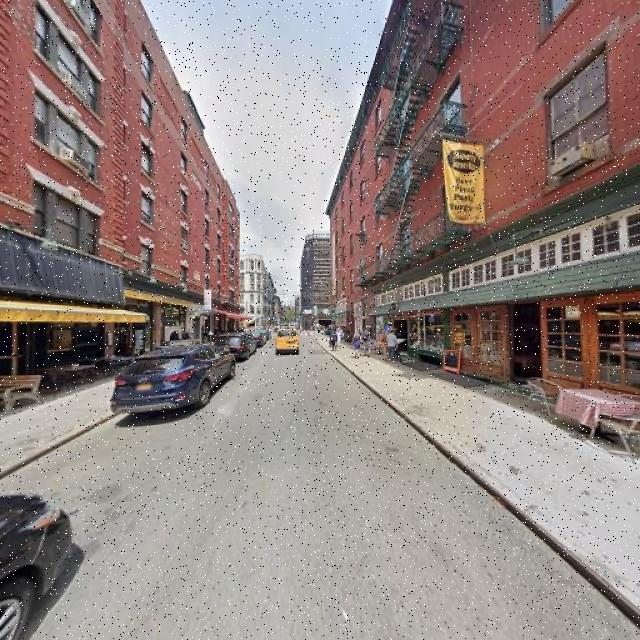Building: (332, 1, 640, 422), (1, 1, 240, 395)
